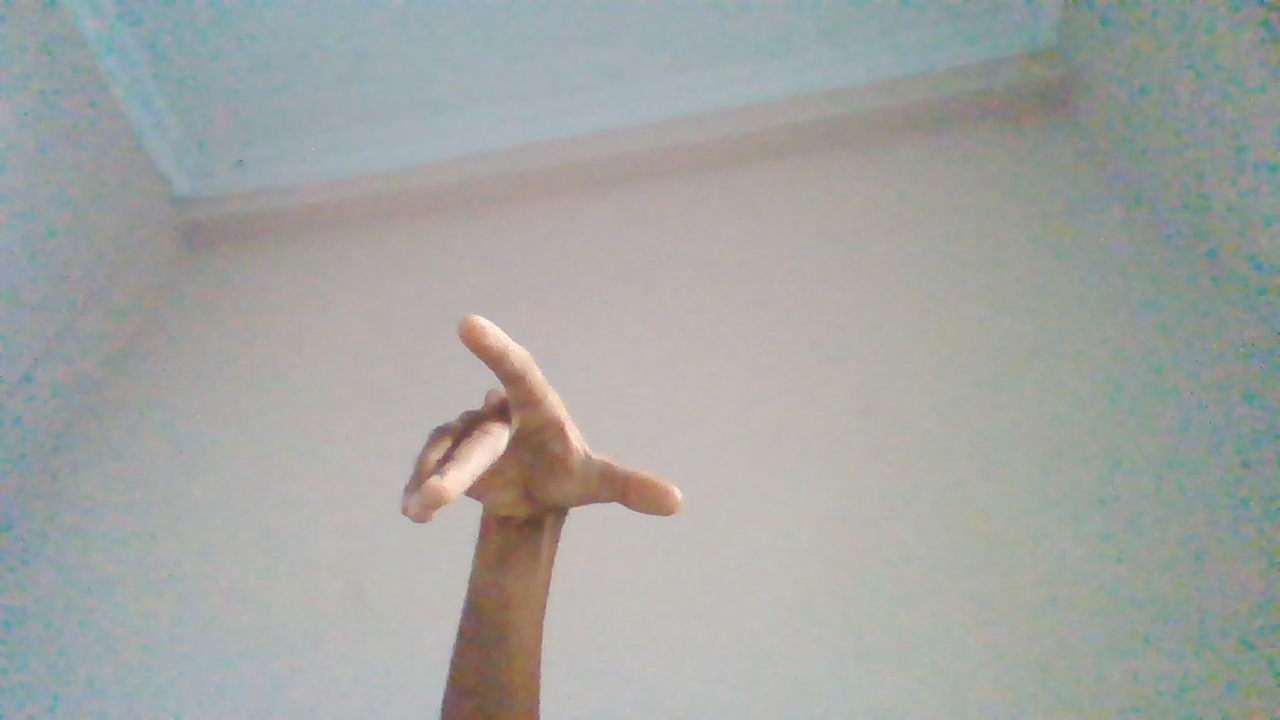ke: (401, 307, 686, 690)
